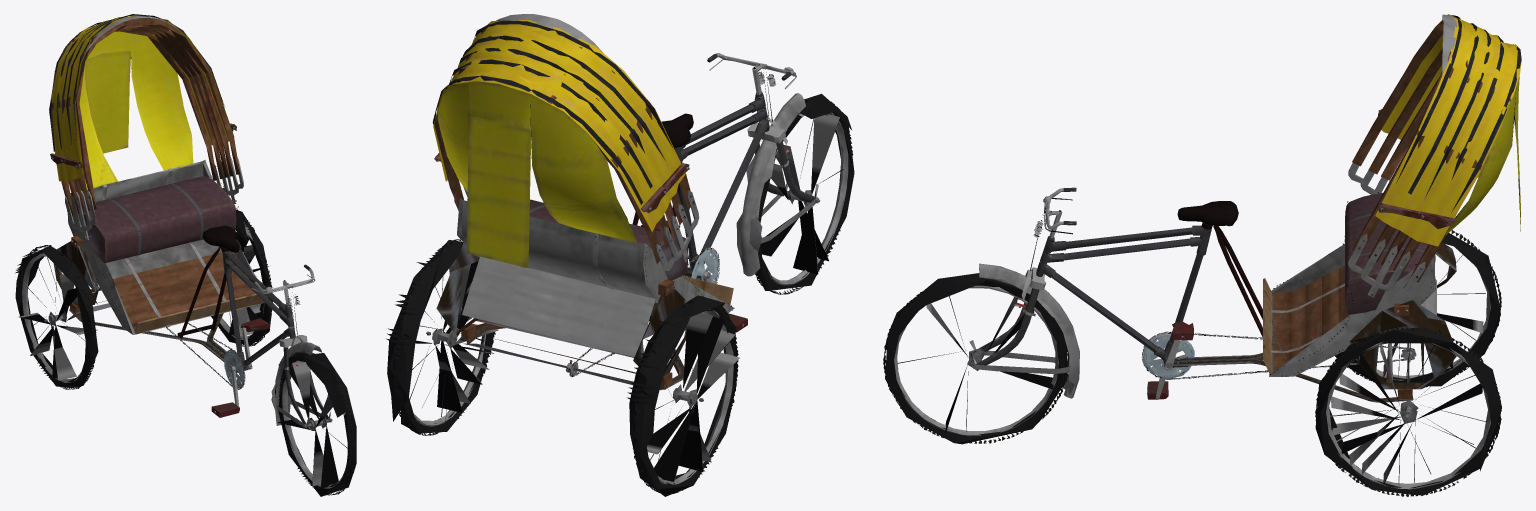
The model's file is rickshaw.glb.
The picture shows the model from 3 angles, left to right: view 1: azimuth 30°, elevation 25°; view 2: azimuth 150°, elevation 25°; view 3: azimuth 270°, elevation 25°; orthographic projection. The views are drawn at different scales.
Parts seen in each view (by area): view 1: rickshaw, wheel_bars, wheel_rr, wheel_f, wheel_rl; view 2: rickshaw, wheel_bars, wheel_rr, wheel_f, wheel_rl; view 3: rickshaw, wheel_rl, wheel_f, wheel_bars, wheel_rr.
Part boxes in pixels (x1,y1,x2,y2): rickshaw: (15,14,331,430); wheel_bars: (249,264,356,488); wheel_rr: (18,246,98,389); wheel_f: (275,352,356,496); wheel_rl: (211,208,272,346); rickshaw: (386,14,817,484); wheel_bars: (707,53,851,274); wheel_rr: (630,298,738,496); wheel_f: (755,99,854,294); wheel_rl: (391,239,495,435); rickshaw: (973,14,1521,487); wheel_rl: (1315,327,1501,496); wheel_f: (883,275,1069,444); wheel_bars: (888,187,1076,433); wheel_rr: (1335,230,1501,387).
Size of the model in its own units: 1.15 by 1.83 by 2.5.
1 material, 1 textured.
